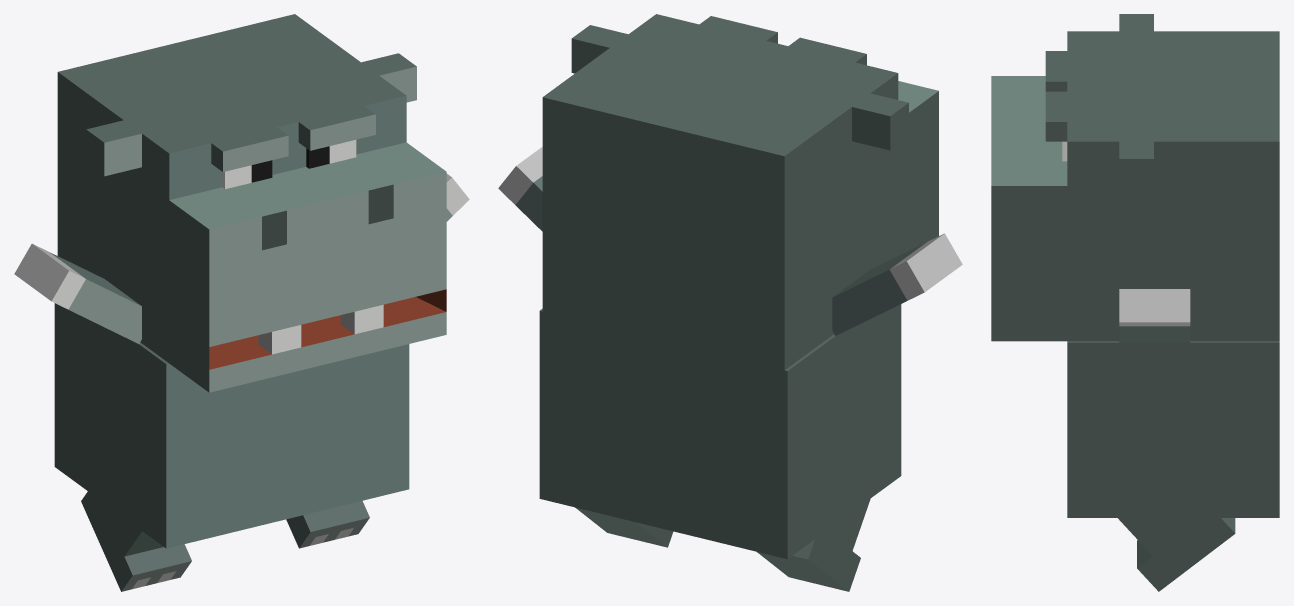
3 views of the same model, side by side, from view 1: azimuth 30°, elevation 25°; view 2: azimuth 150°, elevation 25°; view 3: azimuth 270°, elevation 25° (orthographic). The views are drawn at different scales.
Visible parts, largest first — view 1: Ch_185_Head, Ch_185, Ch_185_Arm_L, Ch_185_Leg_L, Ch_185_Leg_R, Ch_185_Eye_01, Ch_185_Arm_R; view 2: Ch_185_Head, Ch_185, Ch_185_Arm_L, Ch_185_Leg_L, Ch_185_Arm_R, Ch_185_Leg_R; view 3: Ch_185_Head, Ch_185, Ch_185_Leg_R, Ch_185_Arm_R.
Boxes of the visible parts, x1=… form: Ch_185_Head: x1=57, y1=14, x2=446, y2=392; Ch_185: x1=54, y1=303, x2=409, y2=548; Ch_185_Arm_L: x1=14, y1=243, x2=141, y2=343; Ch_185_Leg_L: x1=81, y1=491, x2=191, y2=591; Ch_185_Leg_R: x1=286, y1=501, x2=369, y2=548; Ch_185_Eye_01: x1=222, y1=140, x2=356, y2=189; Ch_185_Arm_R: x1=446, y1=173, x2=469, y2=221; Ch_185_Head: x1=542, y1=14, x2=938, y2=370; Ch_185: x1=539, y1=304, x2=901, y2=559; Ch_185_Arm_L: x1=832, y1=233, x2=962, y2=335; Ch_185_Leg_L: x1=757, y1=499, x2=870, y2=591; Ch_185_Arm_R: x1=498, y1=147, x2=542, y2=231; Ch_185_Leg_R: x1=575, y1=507, x2=673, y2=547; Ch_185_Head: x1=991, y1=14, x2=1279, y2=341; Ch_185: x1=1067, y1=341, x2=1279, y2=517; Ch_185_Leg_R: x1=1118, y1=518, x2=1235, y2=591; Ch_185_Arm_R: x1=1119, y1=289, x2=1190, y2=342.
Bounding box in the file's own units: 11.1 × 12.02 × 6.97.
